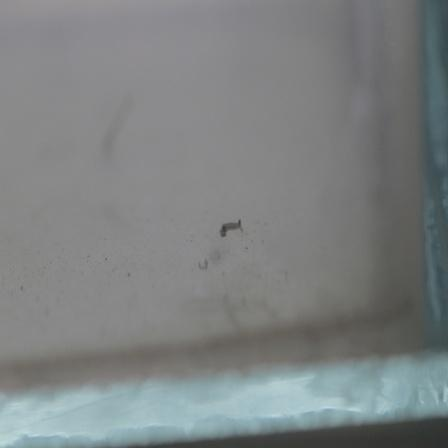Jentik-Nyamuk: (213, 217, 248, 240)
